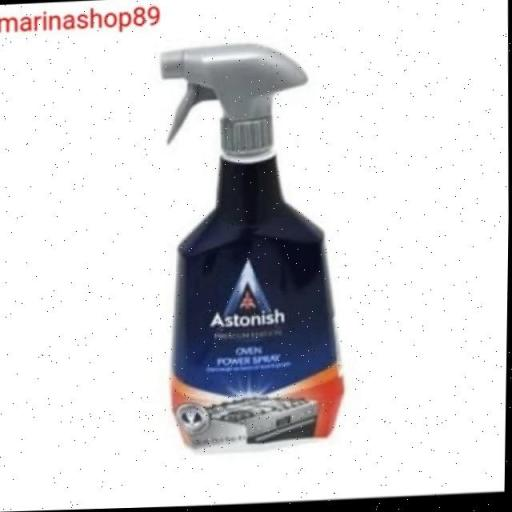plastic: (145, 37, 359, 459)
